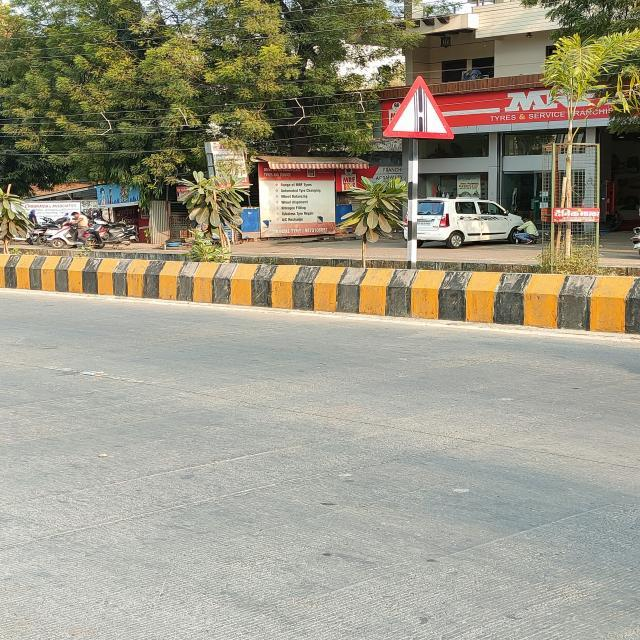gap in median: (382, 78, 453, 140)
